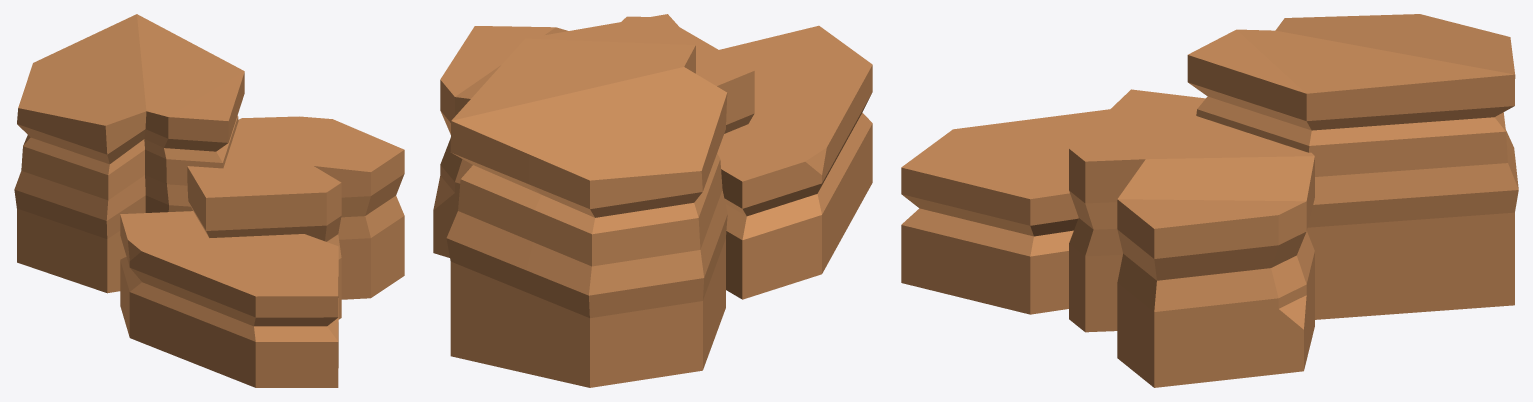
The model's file is SandRocks7_LOD1.fbx.
3 renders of one model, left to right at view 1: azimuth 30°, elevation 25°; view 2: azimuth 150°, elevation 25°; view 3: azimuth 270°, elevation 25°, orthographic. The views are drawn at different scales.
Parts seen in each view (by area): view 1: 7; view 2: 7; view 3: 7.
Boxes of the visible parts, <box> form: 7: <box>14,14,404,387</box>; 7: <box>433,14,872,387</box>; 7: <box>901,14,1518,387</box>.
Bounding box in the file's own units: 51.73 × 32.64 × 77.23.
